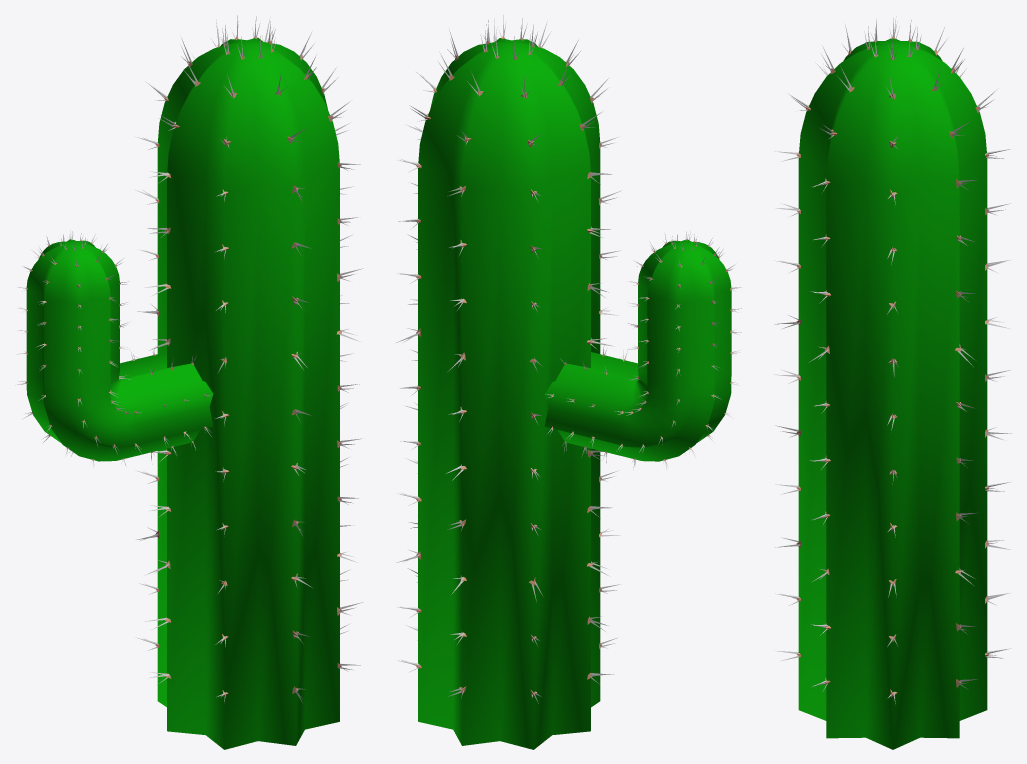
The model's file is cactus_1.fbx.
The picture shows the model from 3 angles, left to right: view 1: azimuth 30°, elevation 25°; view 2: azimuth 150°, elevation 25°; view 3: azimuth 270°, elevation 25°; orthographic projection.
Visible parts, largest first — view 1: Cylinder, Cylinder.001; view 2: Cylinder, Cylinder.001; view 3: Cylinder.
Part boxes in pixels (x1,y1,x2,y2): Cylinder: (134,15,363,749); Cylinder.001: (15,230,213,467); Cylinder: (396,15,621,749); Cylinder.001: (544,230,741,470); Cylinder: (774,16,1012,749).
Size of the model in its own units: 100 by 201 by 63.64.
